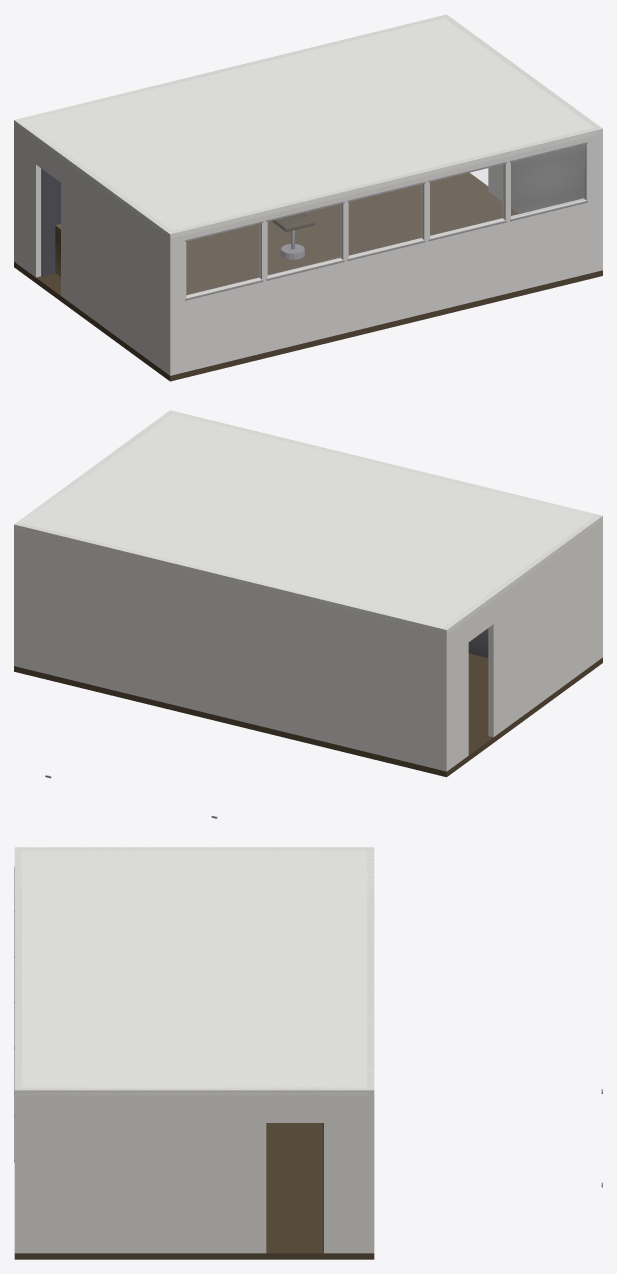
The model's file is Bridge_v1.1_empty.glb.
3 renders of one model, top to bottom at view 1: azimuth 30°, elevation 25°; view 2: azimuth 150°, elevation 25°; view 3: azimuth 270°, elevation 25°, orthographic. The views are drawn at different scales.
Parts seen in each view (by area): view 1: cabin_ceiling, wall_front, wall_left, cabin_floor, wall_right, window_glass_1, window_glass_2, window_glass_5, window_glass_3, window_glass_4, wall_back, door_left (+1 smaller); view 2: cabin_ceiling, wall_back, wall_left, cabin_floor, wall_front, wall_right; view 3: cabin_ceiling, wall_right, cabin_floor, wall_back, wall_front, wall_left.
Boxes of the visible parts, x1,y1,x2,y2 form: cabin_ceiling: (14, 17, 602, 238); wall_front: (167, 126, 602, 375); wall_left: (14, 119, 175, 375); cabin_floor: (14, 172, 602, 381); wall_right: (442, 15, 602, 271); window_glass_1: (186, 224, 260, 296); window_glass_2: (268, 204, 341, 276); window_glass_5: (511, 145, 584, 217); window_glass_3: (349, 184, 422, 256); window_glass_4: (430, 164, 503, 237); wall_back: (14, 14, 449, 260); door_left: (41, 168, 60, 276); cabin_ceiling: (14, 410, 602, 634); wall_back: (14, 522, 449, 771); wall_left: (441, 515, 602, 771); cabin_floor: (14, 653, 602, 777); wall_front: (167, 410, 602, 658); wall_right: (16, 410, 174, 526); cabin_ceiling: (14, 847, 374, 1095); wall_right: (14, 1087, 374, 1253); cabin_floor: (14, 1123, 374, 1259); wall_back: (367, 847, 374, 1253); wall_front: (14, 847, 21, 1252); wall_left: (14, 847, 373, 850).
Size of the model in its own units: 8 by 2.62 by 8.19.
